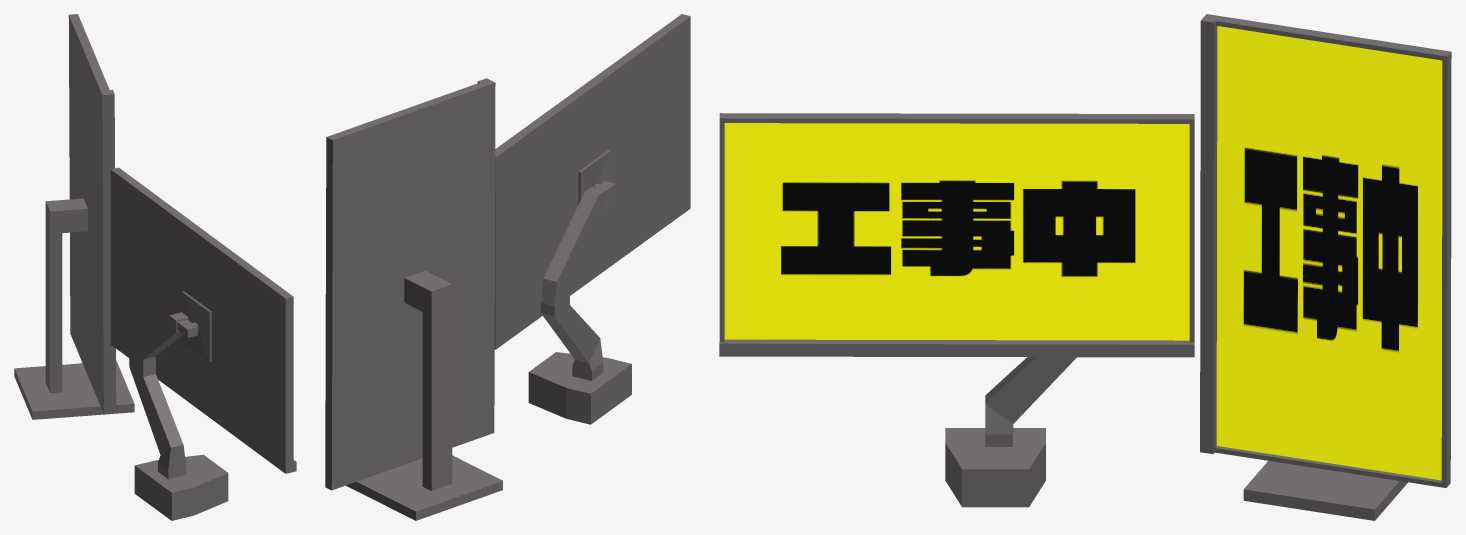
Rendered from Monitor.glb.
The picture shows the model from 3 angles, left to right: view 1: azimuth 30°, elevation 25°; view 2: azimuth 150°, elevation 25°; view 3: azimuth 270°, elevation 25°; orthographic projection. The views are drawn at different scales.
Parts seen in each view (by area): view 1: Monitor, arm, 立方体.001, 立方体, Base; view 2: arm, Monitor, 立方体.001, 立方体, Base; view 3: Monitor, arm, Base, 立方体.001, 立方体.
Part boxes in pixels (left/top/right/bottom): Monitor: left=110, top=167, right=296, bottom=473; arm: left=68, top=14, right=116, bottom=414; 立方体.001: left=14, top=198, right=134, bottom=419; 立方体: left=129, top=291, right=211, bottom=479; Base: left=134, top=454, right=228, bottom=520; arm: left=325, top=78, right=495, bottom=490; Monitor: left=494, top=14, right=690, bottom=349; 立方体.001: left=346, top=270, right=502, bottom=520; 立方体: left=540, top=149, right=615, bottom=380; Base: left=528, top=352, right=631, bottom=424; Monitor: left=719, top=113, right=1194, bottom=357; arm: left=1200, top=14, right=1451, bottom=487; Base: left=945, top=428, right=1045, bottom=507; 立方体.001: left=1243, top=461, right=1407, bottom=520; 立方体: left=985, top=357, right=1076, bottom=446.
Bounding box in the file's own units: 2.56 × 7.42 × 10.47.
Materials: 2 (1 with a texture image).
